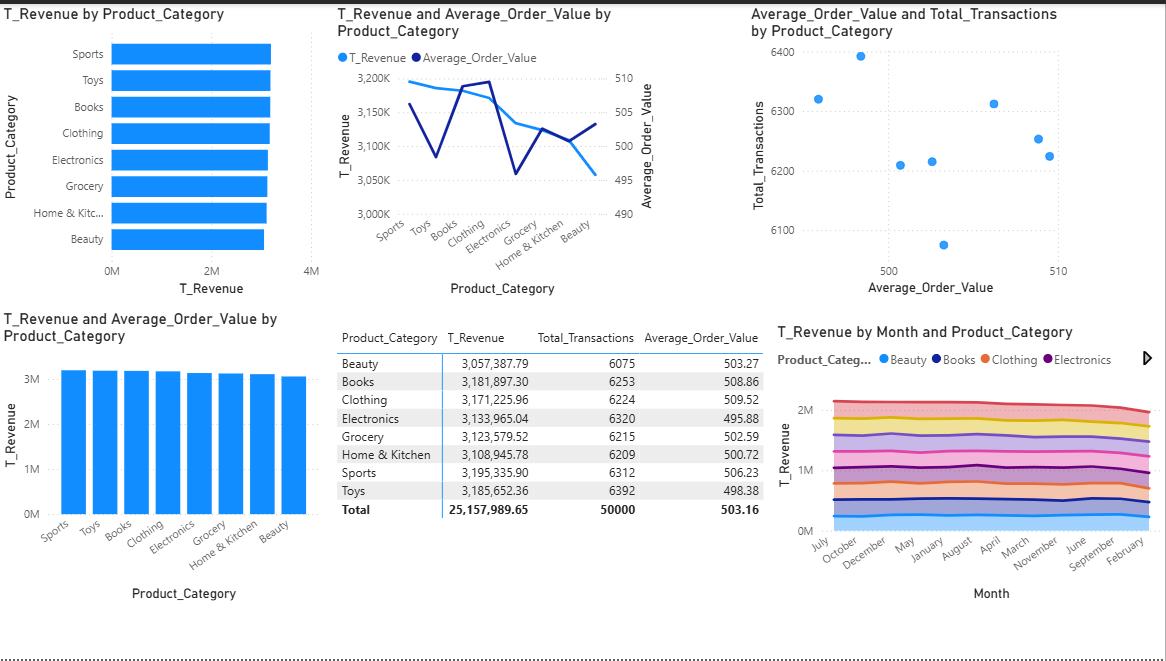

This screenshot's page, from the dashboard's own definition file:
{"tool":"powerbi","page":{"name":"Page 4","canvas":[1280,720],"ordinal":3},"visuals":[{"type":"clusteredBarChart","fields":{"Category":["cleaned_ecommerce_data.Product_Category"],"Y":["Date_Table.T_Revenue"]},"box":[0,0,356.8,325.2],"z":0},{"type":"clusteredColumnChart","fields":{"Y":["Date_Table.T_Revenue"],"Category":["cleaned_ecommerce_data.Product_Category"]},"box":[0,334.8,356.8,325.2],"z":1},{"type":"lineChart","fields":{"Category":["cleaned_ecommerce_data.Product_Category"],"Y":["Date_Table.T_Revenue"],"Y2":["Date_Table.Average_Order_Value"]},"box":[367,0,357,325],"z":2},{"type":"pivotTable","fields":{"Rows":["cleaned_ecommerce_data.Product_Category"],"Values":["Date_Table.T_Revenue","Date_Table.Total_Transactions","Date_Table.Average_Order_Value"]},"box":[366.4,349.9,483,226.4],"z":3},{"type":"scatterChart","fields":{"X":["Date_Table.Average_Order_Value"],"Y":["Date_Table.Total_Transactions"],"Category":["cleaned_ecommerce_data.Product_Category"]},"box":[820.5,0,357,325],"z":4},{"type":"stackedAreaChart","fields":{"Category":["Date_Table.Month"],"Y":["Date_Table.T_Revenue"],"Series":["cleaned_ecommerce_data.Product_Category"]},"box":[849.4,349.9,430.9,310.1],"z":5}]}

Visuals, with their boxes in screenshot pixels (x1, y1, x2, y2), scaled from the page's 1280x720 canvas onto the 1166x661 screenshot:
clusteredBarChart - cleaned_ecommerce_data.Product_Category x Date_Table.T_Revenue: pyautogui.locateOnScreen(0, 0, 325, 299)
clusteredColumnChart - Date_Table.T_Revenue x cleaned_ecommerce_data.Product_Category: pyautogui.locateOnScreen(0, 307, 325, 606)
lineChart - cleaned_ecommerce_data.Product_Category x Date_Table.T_Revenue: pyautogui.locateOnScreen(334, 0, 660, 298)
pivotTable - cleaned_ecommerce_data.Product_Category x Date_Table.T_Revenue: pyautogui.locateOnScreen(334, 321, 774, 529)
scatterChart - Date_Table.Average_Order_Value x Date_Table.Total_Transactions: pyautogui.locateOnScreen(747, 0, 1073, 298)
stackedAreaChart - Date_Table.Month x Date_Table.T_Revenue: pyautogui.locateOnScreen(774, 321, 1165, 606)
